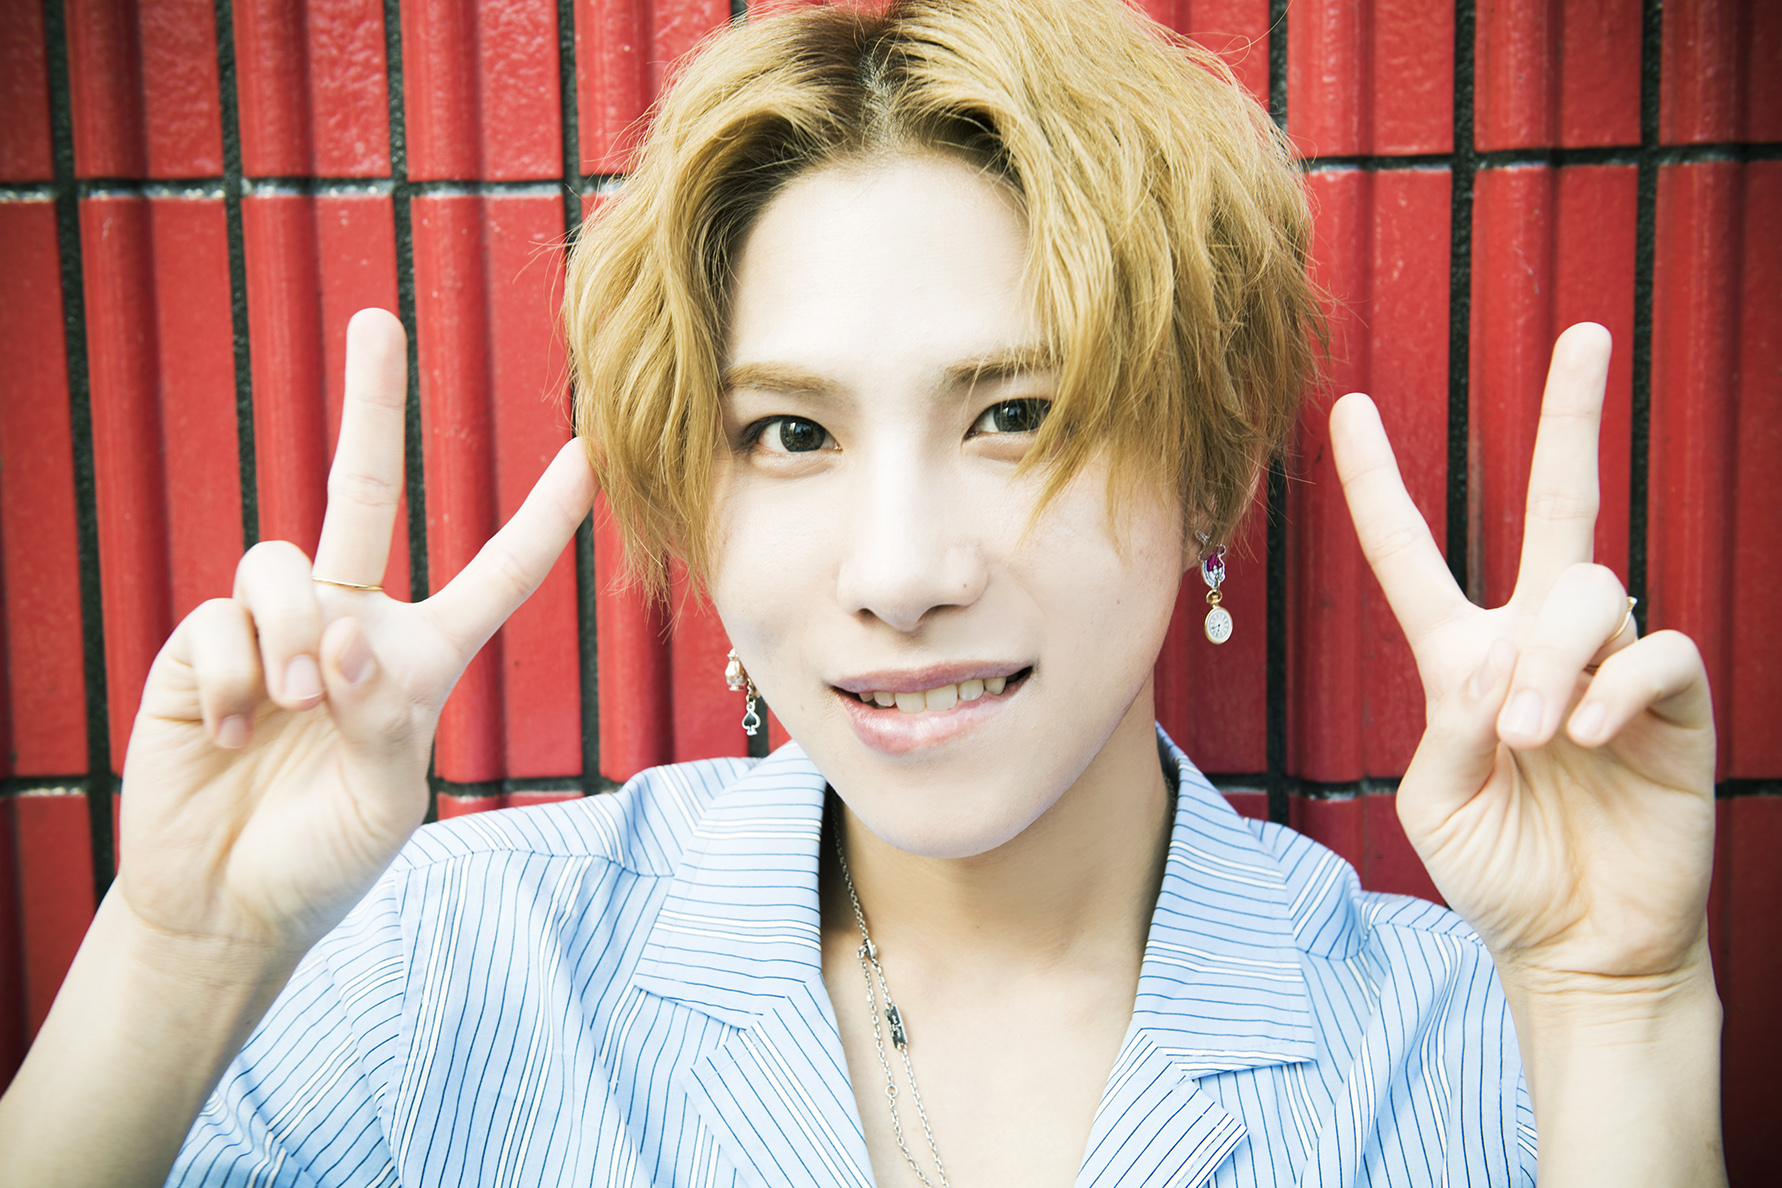face: (699, 130, 1192, 860)
hand: (116, 298, 603, 921), (1323, 304, 1722, 976)
